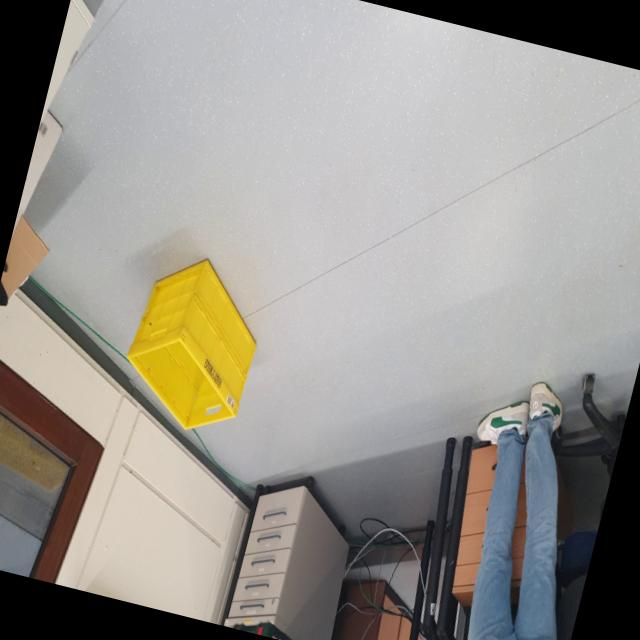box: (102, 238, 280, 457)
